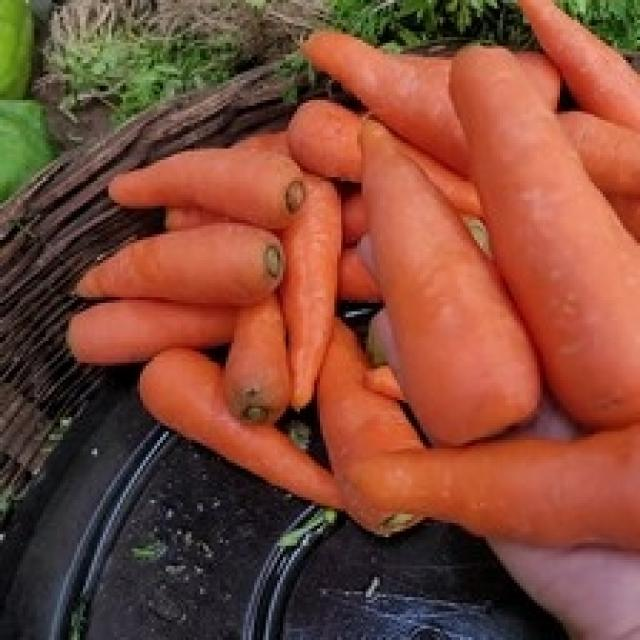carrot: (66, 0, 634, 543)
